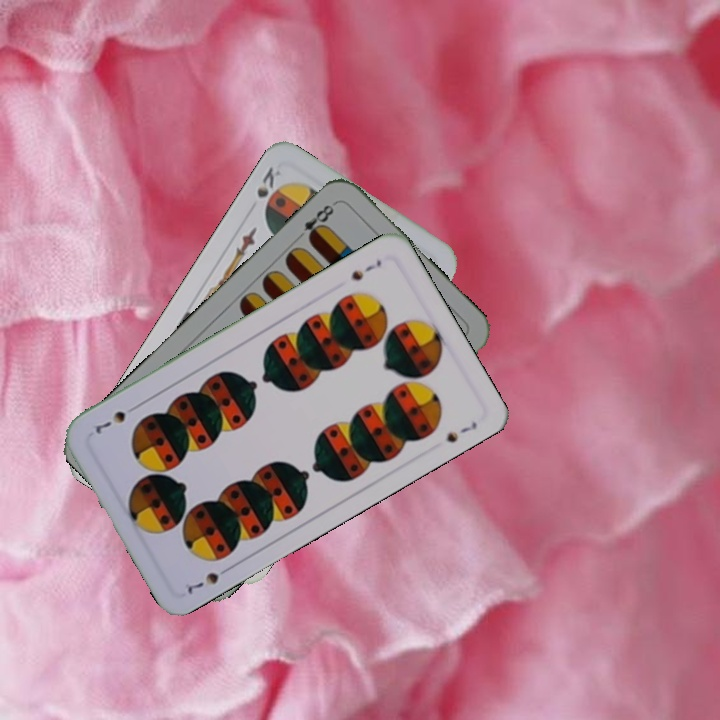E8: (292, 198, 339, 245)
S7: (183, 561, 235, 597), (346, 255, 384, 284)
SK: (252, 162, 284, 201)
